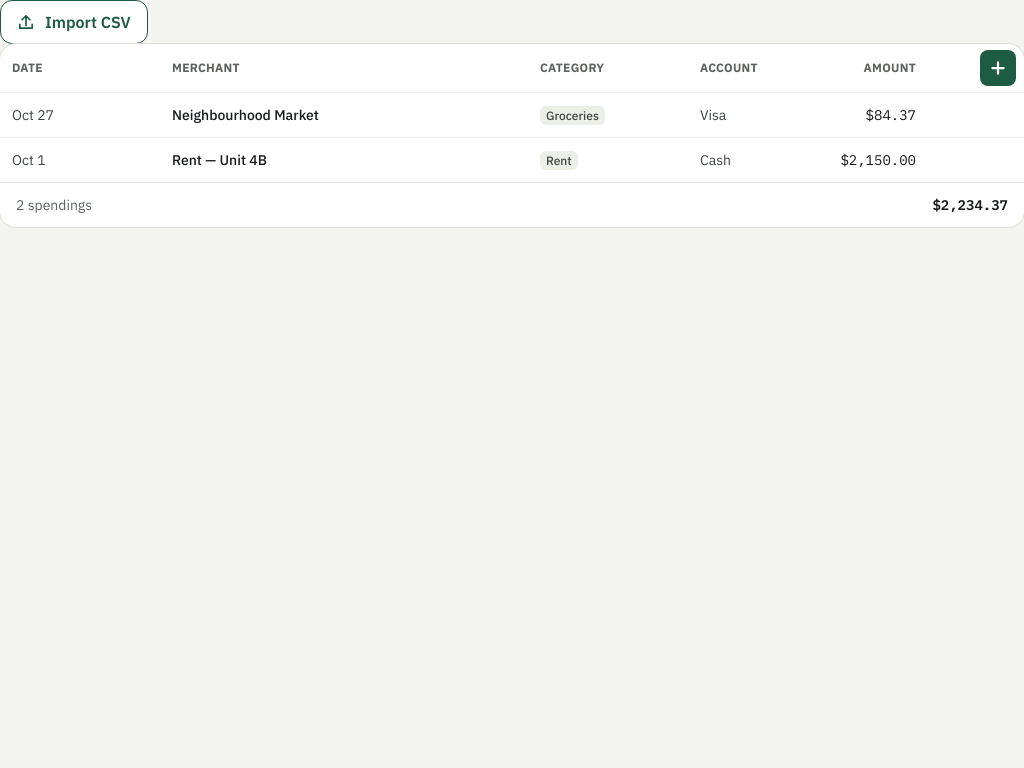
Test: SpendingsTable and the CSV import › makes Import CSV unavailable while a row is open
This screenshot has width=1024, height=768.
Expected: the button "Import CSV" is enabled, left=0, top=0, right=148, bottom=44
Click the button named "Add a spending row" at {"x": 998, "y": 68}, box left=980, top=50, right=1016, bottom=86
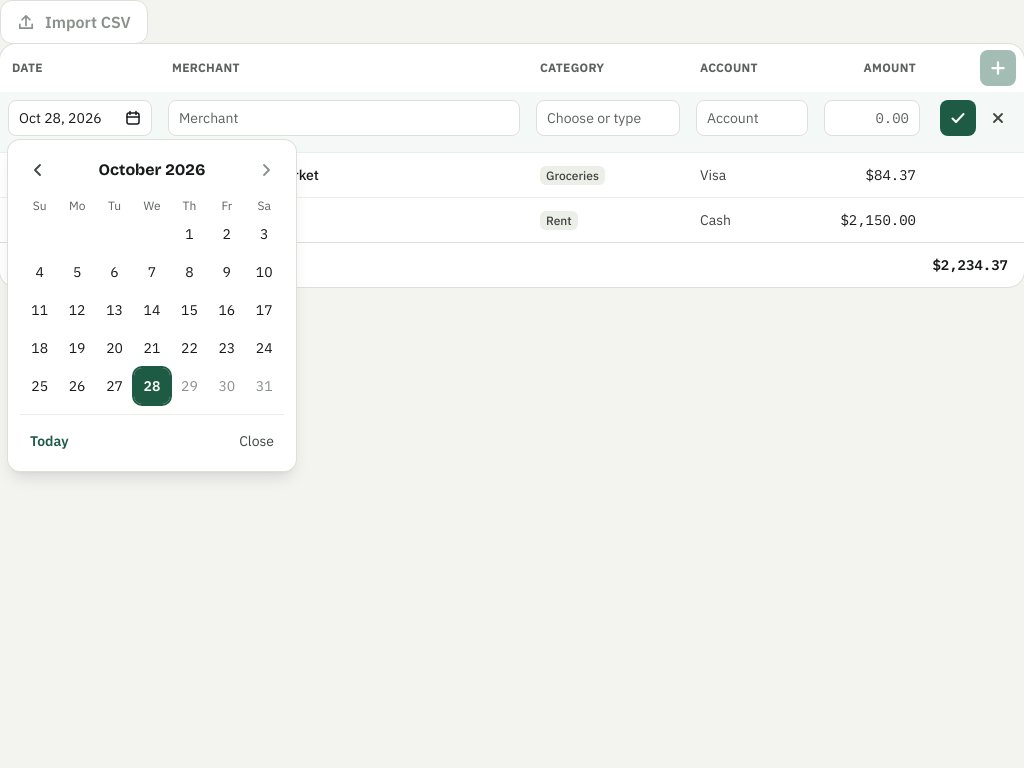
Expected: the button "Import CSV" is disabled, left=0, top=0, right=148, bottom=44
Click the button named "Cancel new spending" at {"x": 998, "y": 118}, box left=980, top=100, right=1016, bottom=136
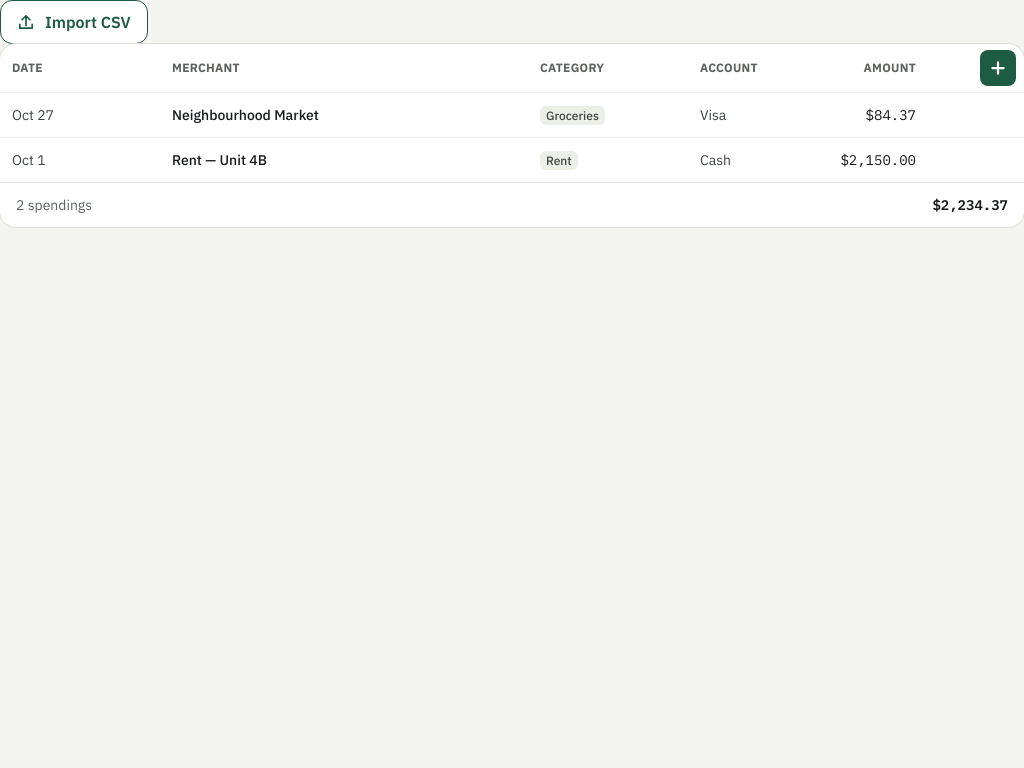
Expected: the button "Import CSV" is enabled, left=0, top=0, right=148, bottom=44
